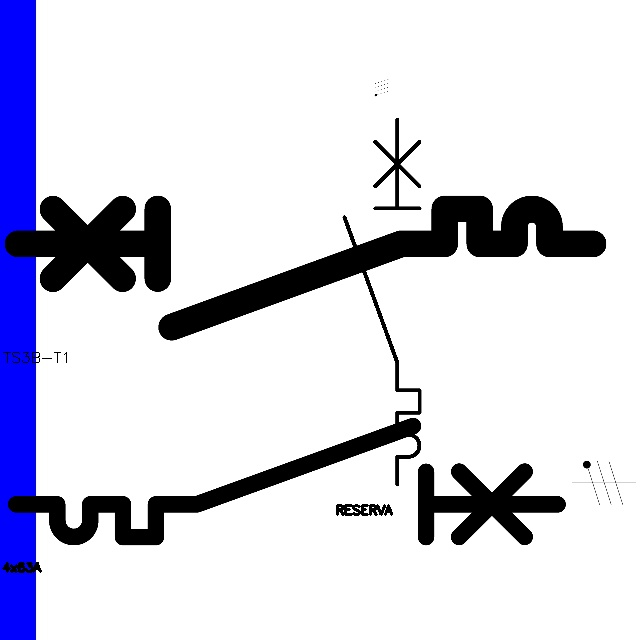interruptor_termomagnetico: (3, 194, 608, 342), (2, 412, 572, 551), (335, 110, 429, 494)
